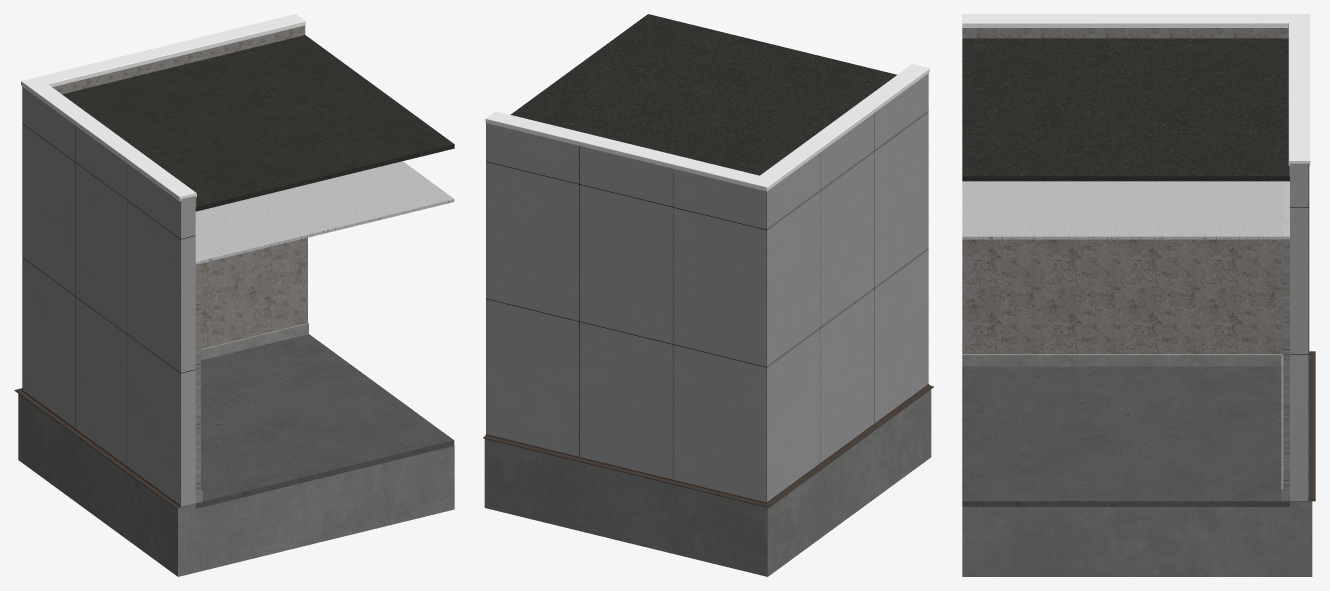
The model's file is shelter_c_warehouse_corner.glb.
The picture shows the model from 3 angles, left to right: view 1: azimuth 30°, elevation 25°; view 2: azimuth 150°, elevation 25°; view 3: azimuth 270°, elevation 25°; orthographic projection. The views are drawn at different scales.
Visible parts, largest first — view 1: shelter_c_warehouse_corner; view 2: shelter_c_warehouse_corner; view 3: shelter_c_warehouse_corner.
Boxes of the visible parts, x1,y1,x2,y2 form: shelter_c_warehouse_corner: (14, 14, 454, 576); shelter_c_warehouse_corner: (483, 14, 933, 576); shelter_c_warehouse_corner: (962, 14, 1315, 576).
Size of the model in its own units: 5.5 by 7.15 by 5.5.
12 materials, 11 textured.
